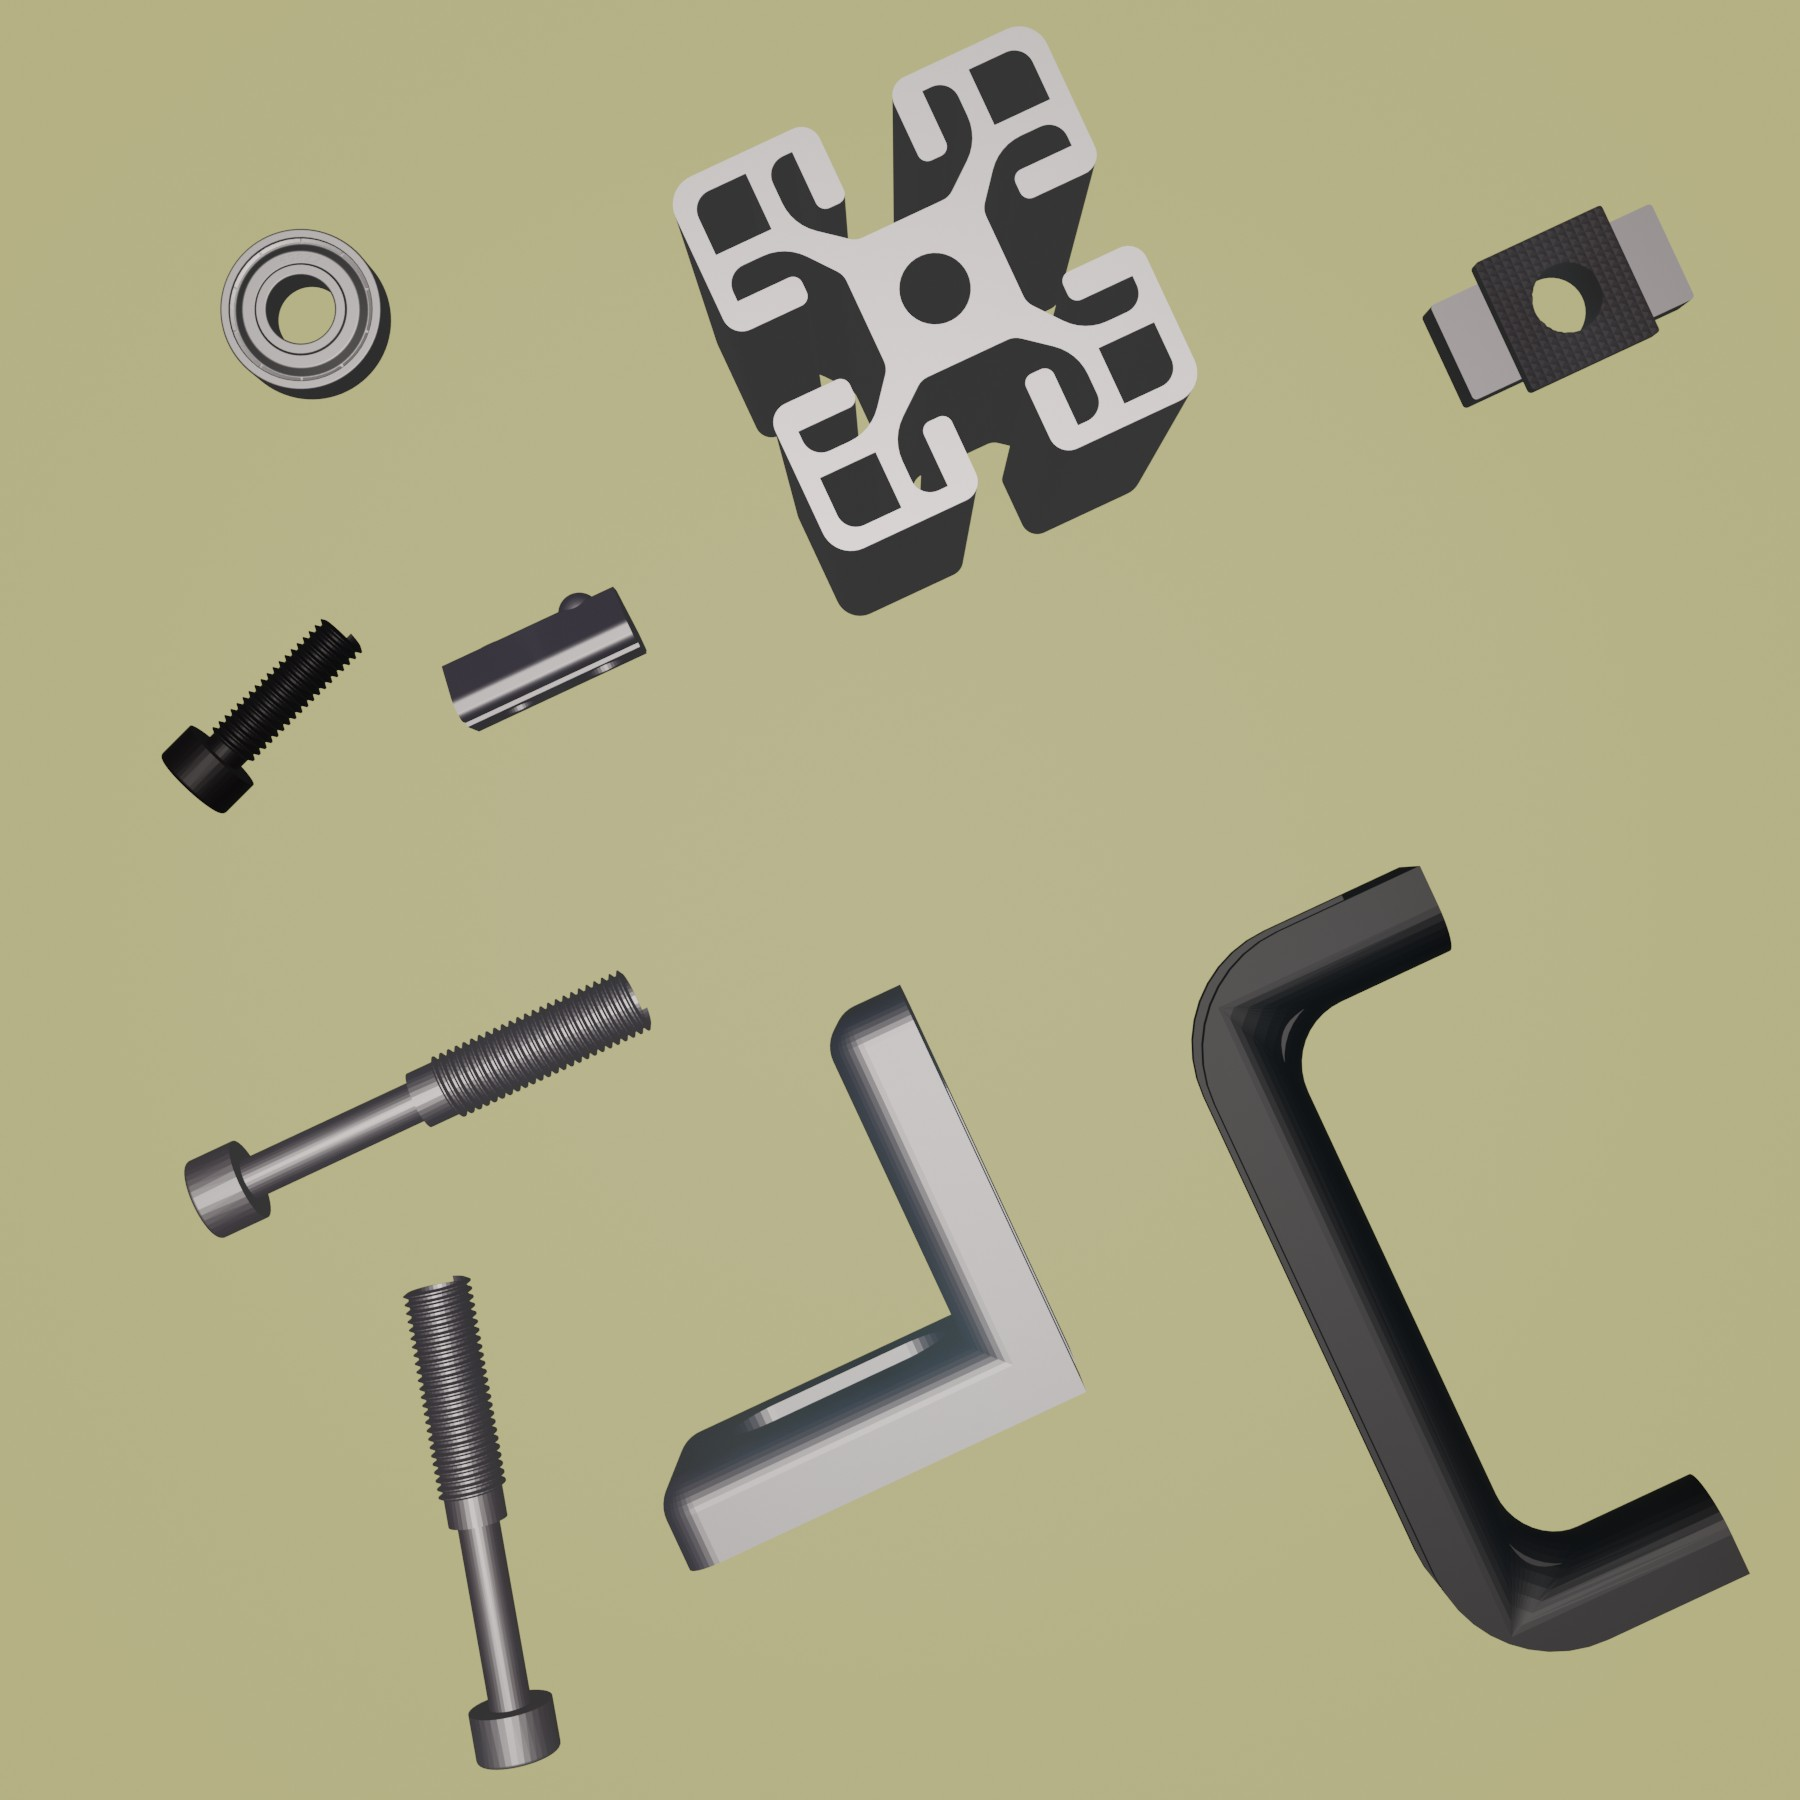Aluminium Extension: (669, 23, 1198, 618)
Ball Bearing: (216, 223, 392, 402)
Multiwinkel: (658, 981, 1091, 1574)
Pull Handle: (1188, 862, 1751, 1655)
Shoulder Socket Head Cap Screw: (181, 964, 656, 1241), (401, 1273, 562, 1774)
Socket Head Cap Screw: (162, 612, 363, 816)
T Nut Square: (1419, 199, 1699, 410)
T Spring Nut: (438, 585, 649, 734)
